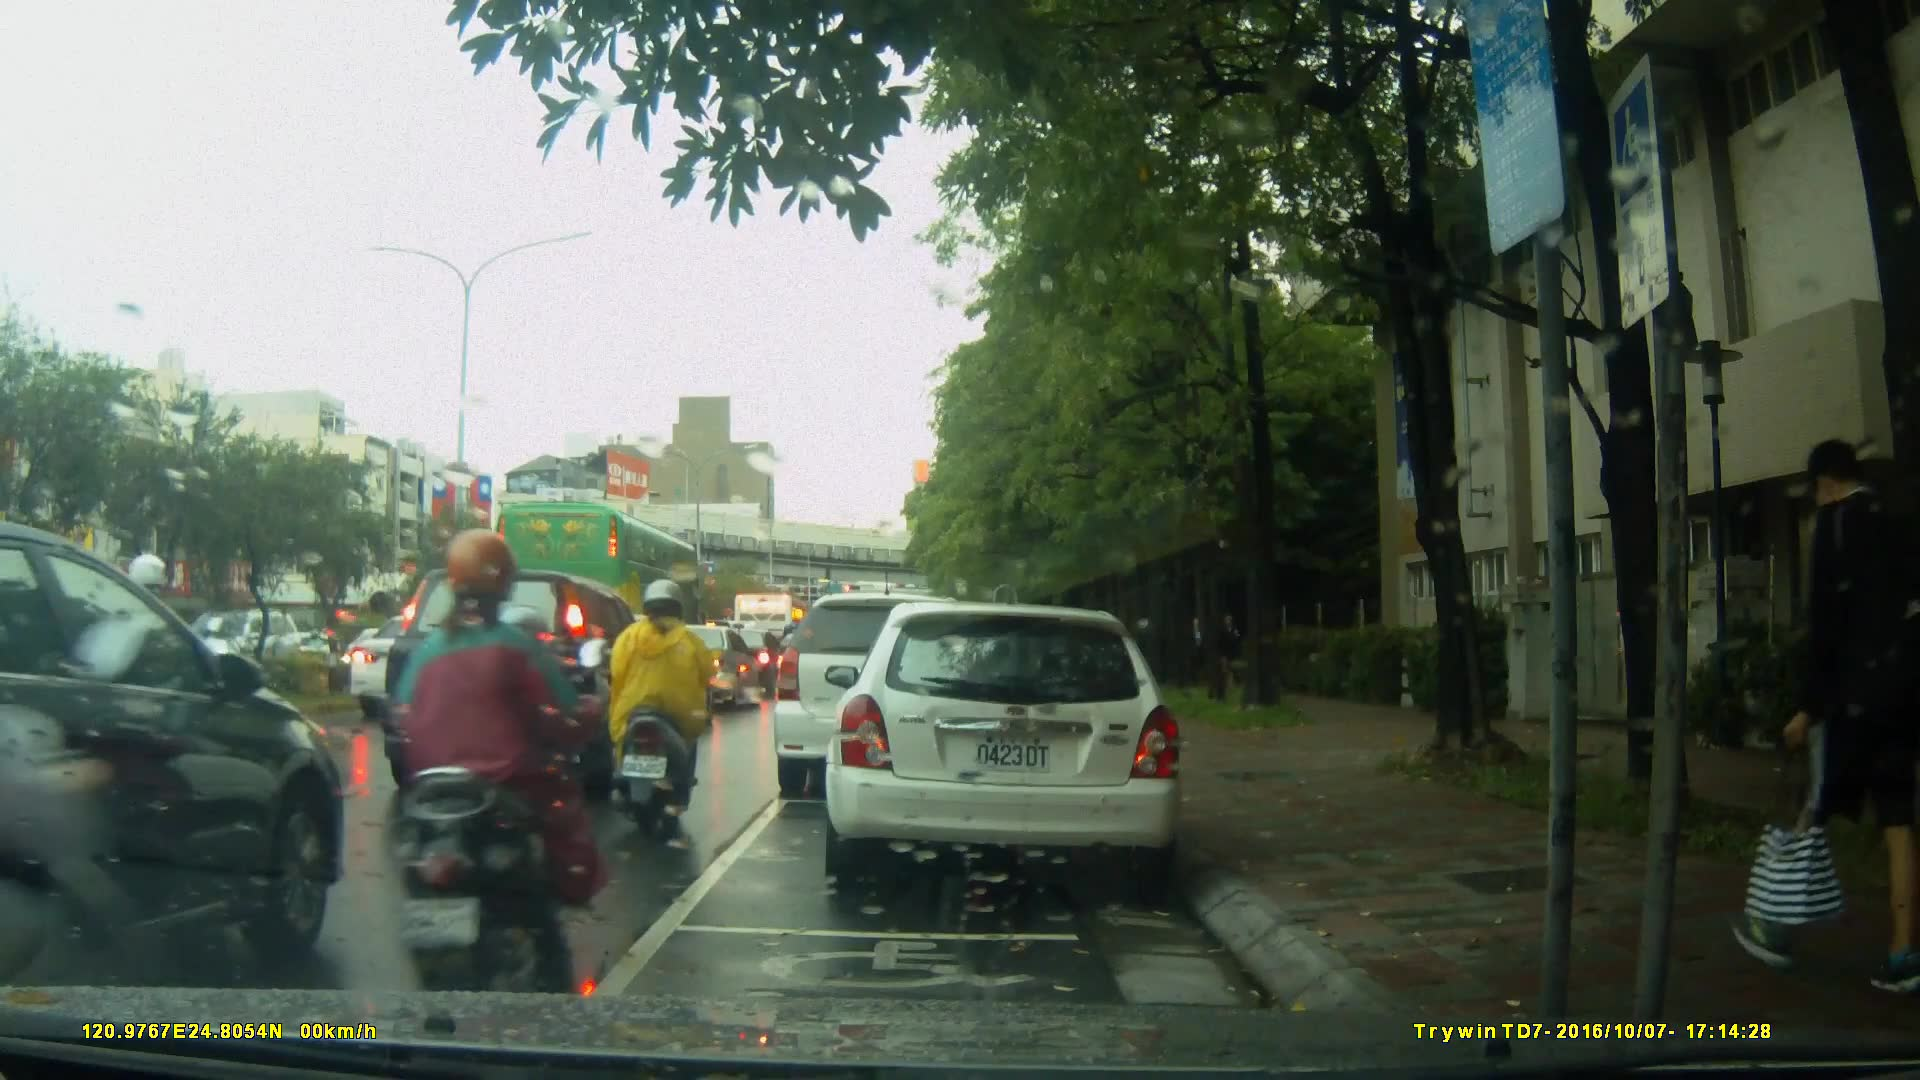pedestrian: (1738, 439, 1920, 1002)
rider: (400, 530, 611, 988), (609, 575, 722, 840), (104, 553, 216, 790)
vehicle: (2, 520, 328, 988), (831, 592, 1196, 897), (386, 564, 671, 803), (770, 592, 999, 800), (492, 498, 705, 659), (157, 601, 305, 701), (648, 624, 764, 711)
